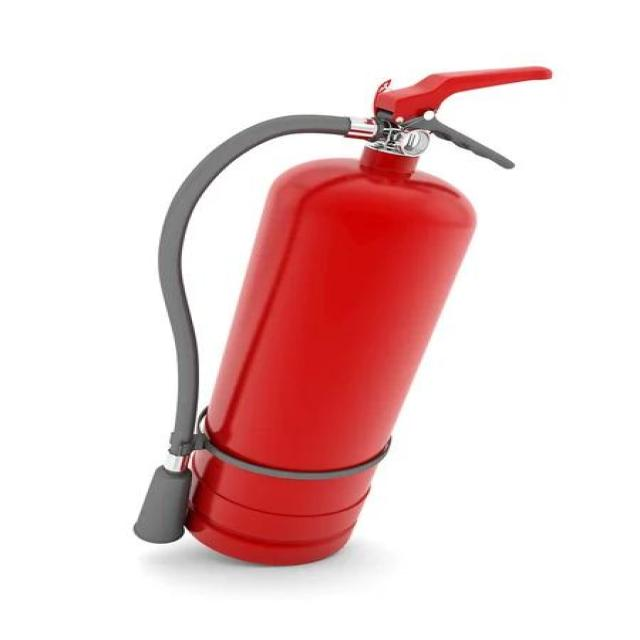fire_extinguisher: (126, 59, 560, 569)
